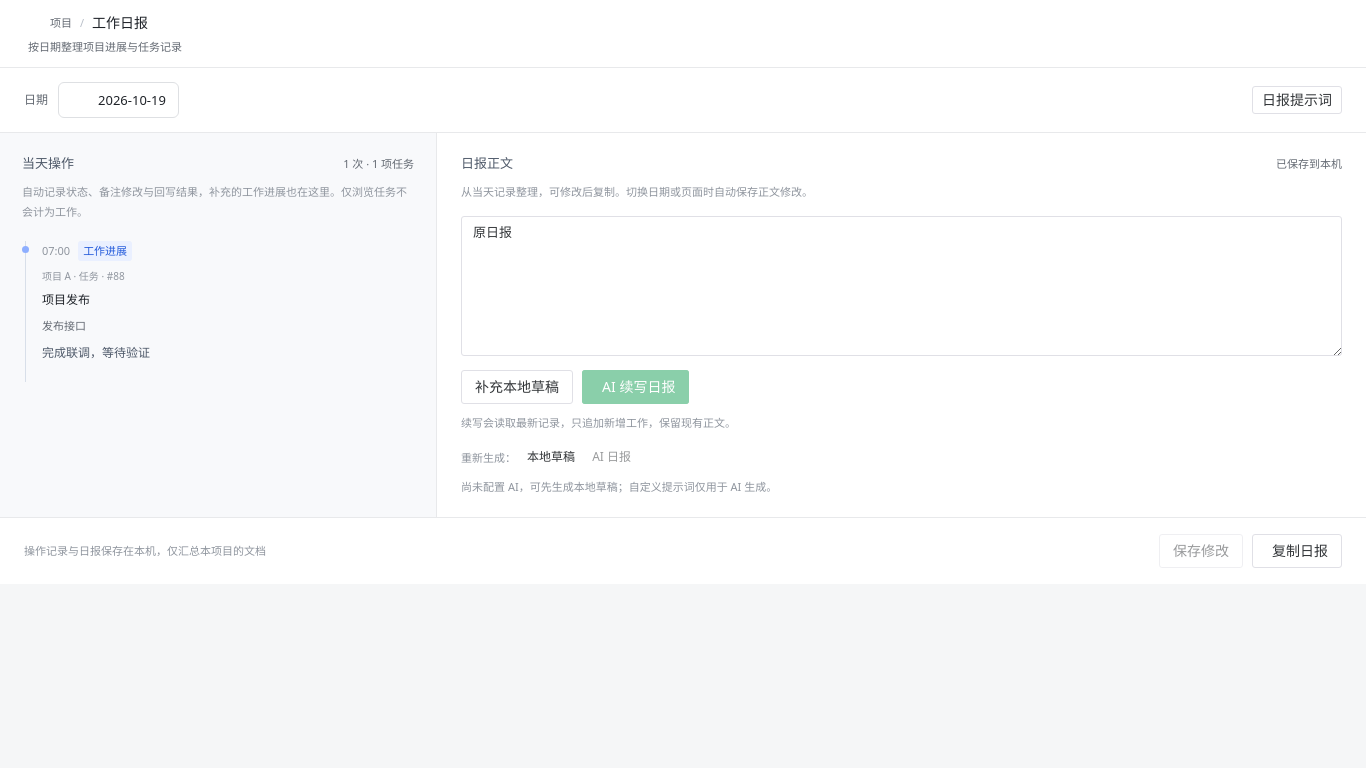
Test: daily report panel › saves edits before continuing, appends fresh work and keeps regeneration separate
Expected: the button "补充本地草稿" is shown, [461,370,573,404]
Replace the text in the text box with "手工修改后的原日报": coordinates (902, 286) [473,216,1330,356]
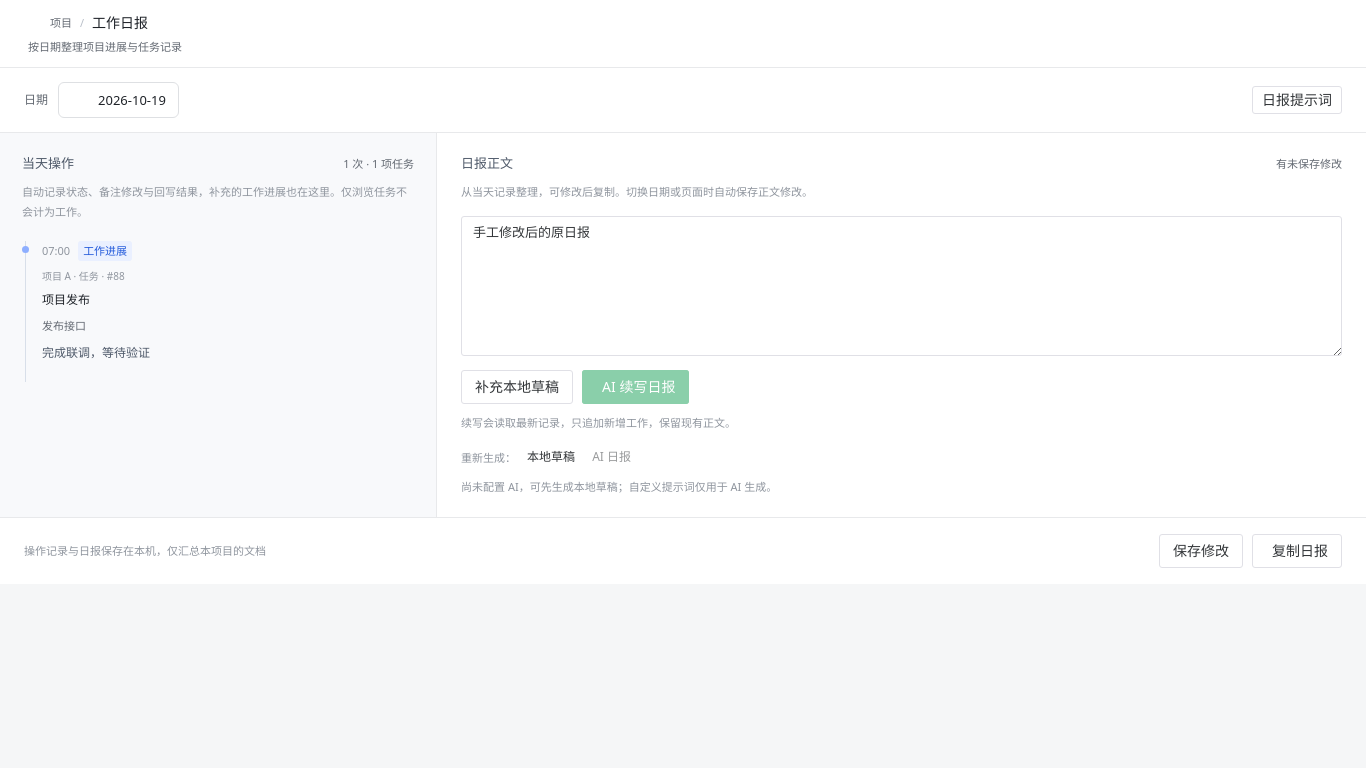
Click the button "补充本地草稿": coordinates (517, 387) [461,370,573,404]
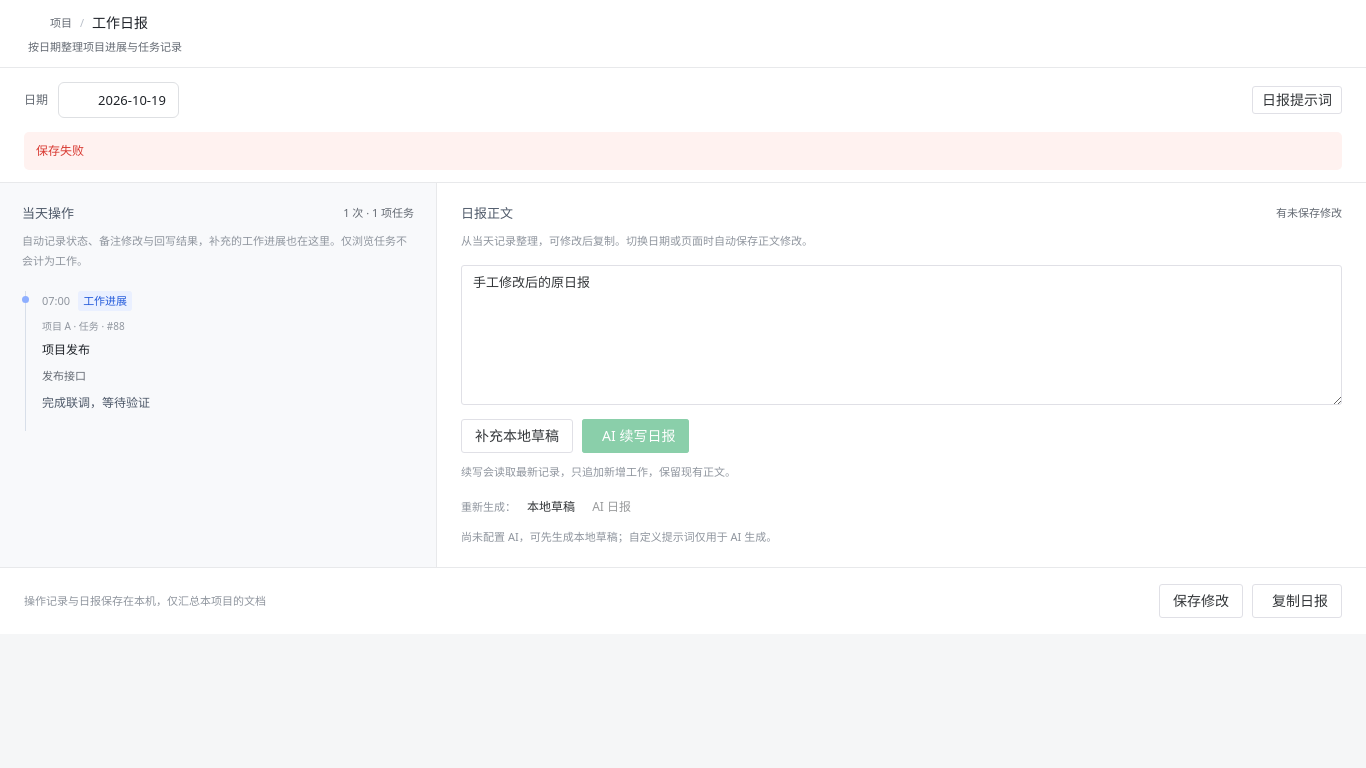
Click the button "补充本地草稿": coordinates (517, 436) [461,419,573,453]
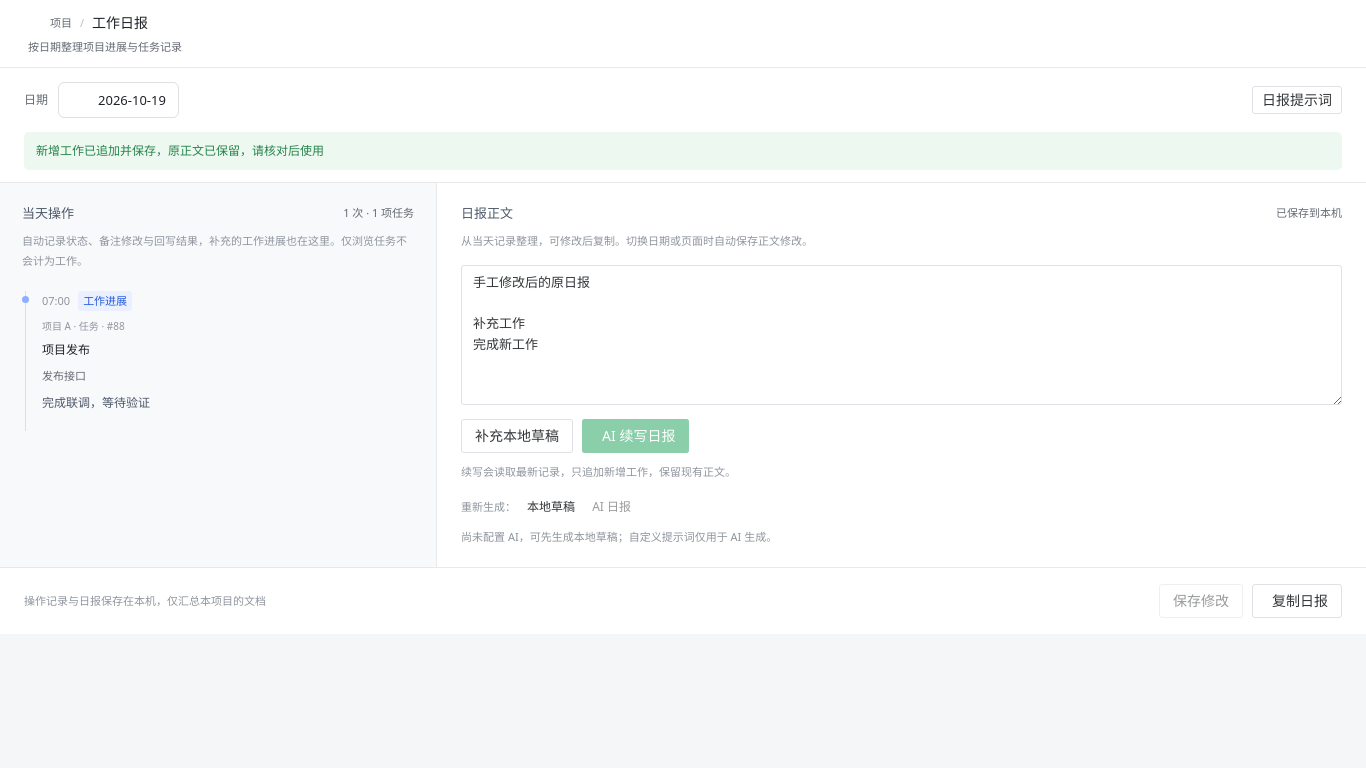
Click the button "补充本地草稿": coordinates (517, 436) [461,419,573,453]
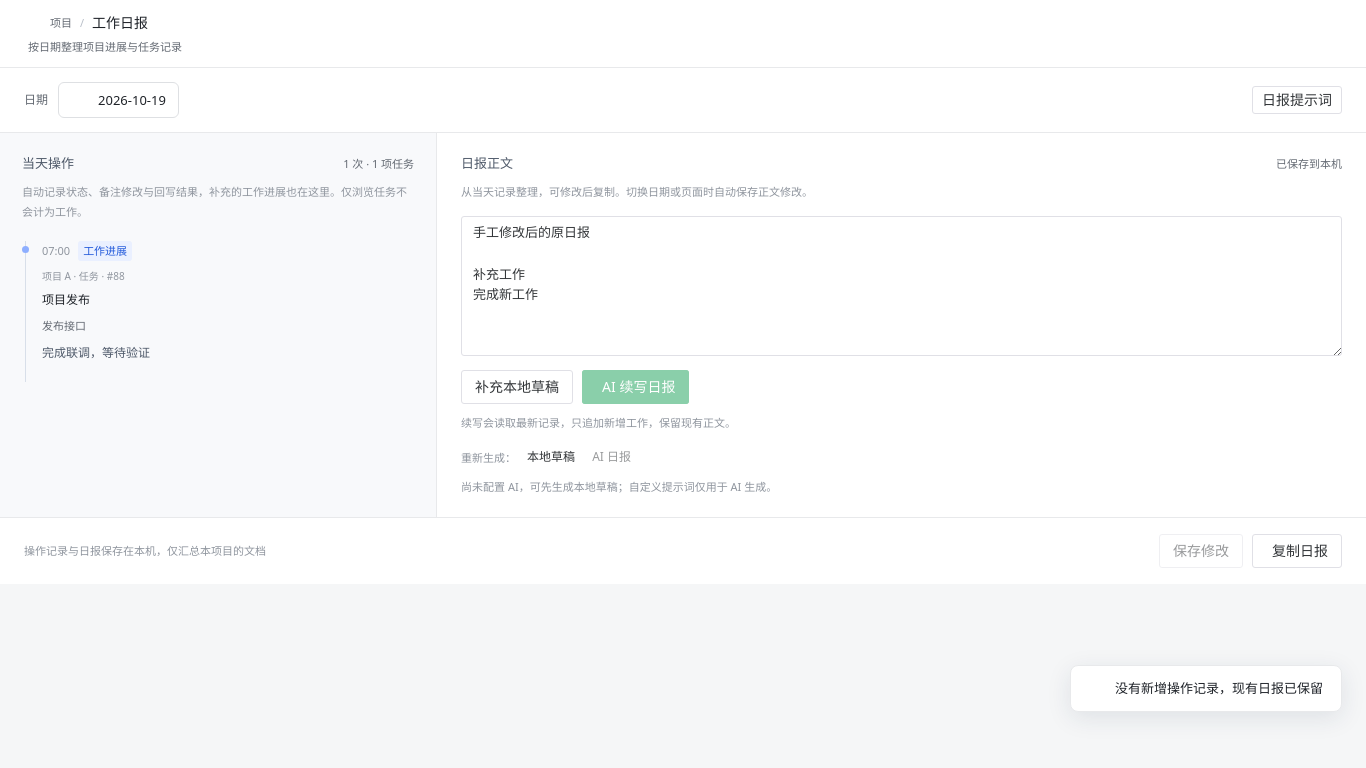
Result: the message with class "daily-toast" reads "没有新增操作记录，现有日报已保留" at [1115,679,1323,697]
